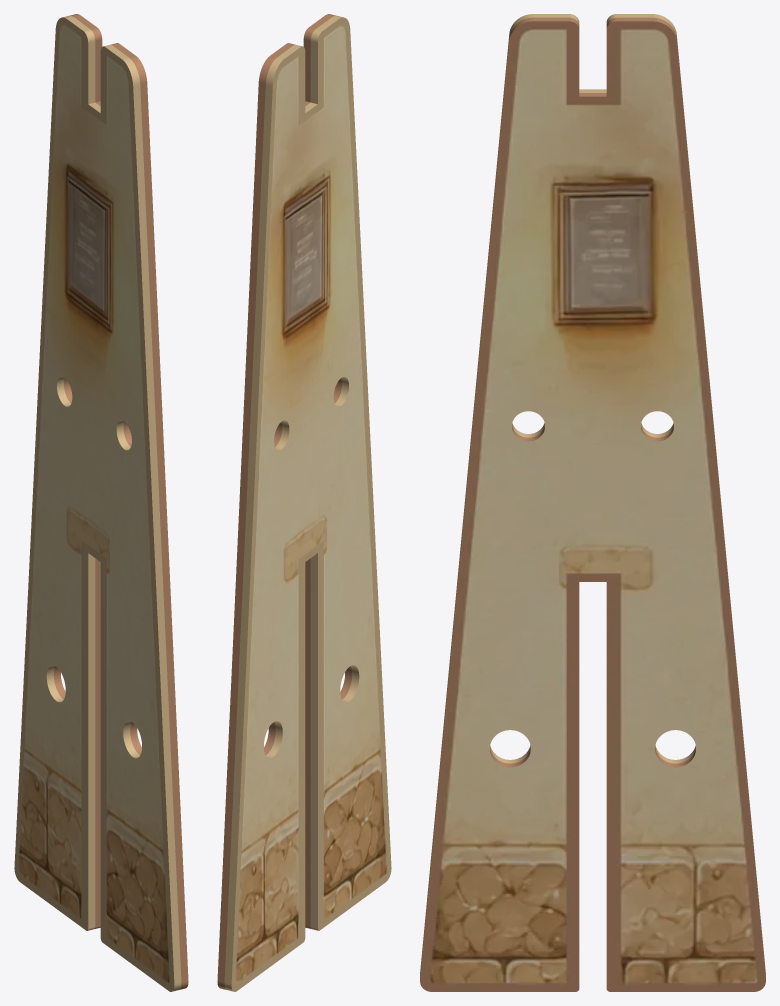
Rendered from connector-stabilizer-02.glb.
The picture shows the model from 3 angles, left to right: view 1: azimuth 30°, elevation 25°; view 2: azimuth 150°, elevation 25°; view 3: azimuth 270°, elevation 25°; orthographic projection. The views are drawn at different scales.
Visible parts, largest first — view 1: connector-stabilizer-02; view 2: connector-stabilizer-02; view 3: connector-stabilizer-02.
Part boxes in pixels (left/top/right/bottom): connector-stabilizer-02: left=14, top=14, right=188, bottom=991; connector-stabilizer-02: left=217, top=14, right=391, bottom=991; connector-stabilizer-02: left=420, top=14, right=765, bottom=991.
Size of the model in its own units: 18 by 1095 by 354.
Materials: 4 (2 with a texture image).
